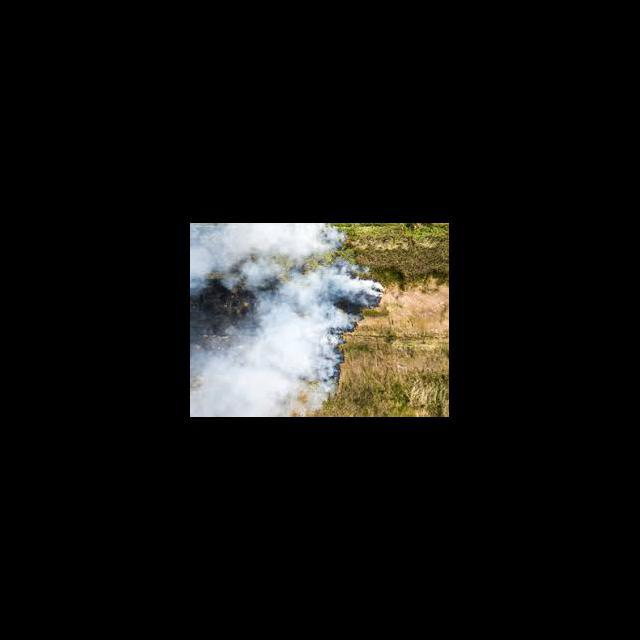Smoke: (191, 223, 387, 417)
